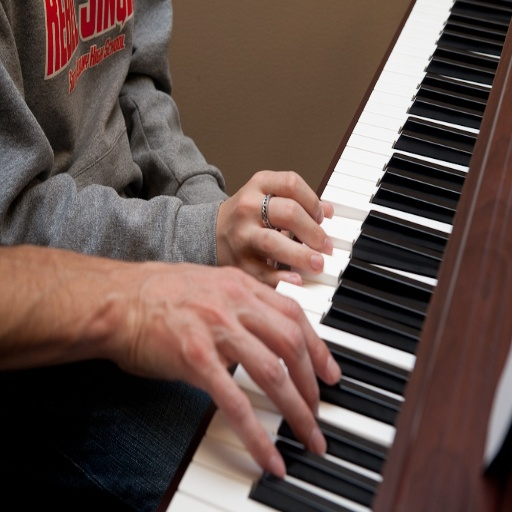hand: (115, 260, 343, 482), (215, 164, 333, 290)
